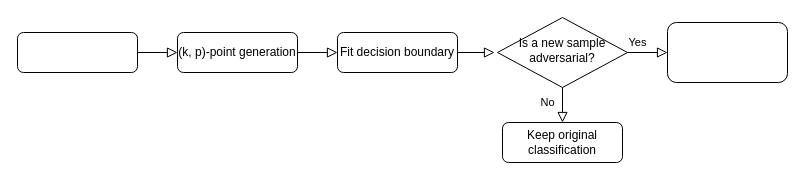
The diagram is 805 pixels wide and 180 high, and some of its shapes have lost their labels. Here are the shapes that lost their labels. From the top down, the centre of each, then its label:
At (77,52): "Generate C&W samples".
At (727,52): "Find actual classification".
